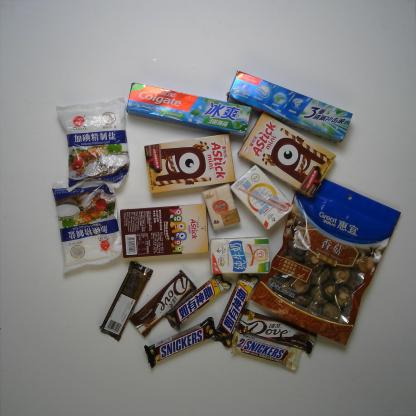Chocolate: (128, 269, 197, 339), (98, 260, 154, 343), (236, 308, 318, 357), (162, 274, 232, 330), (143, 316, 216, 369), (214, 273, 260, 349), (230, 329, 304, 372)
Dessert: (236, 111, 337, 200), (143, 133, 236, 195), (119, 202, 211, 259)
Dried Food: (249, 178, 402, 347)
Milk: (229, 164, 294, 230), (209, 236, 271, 274)
Personal Hygiene: (225, 70, 354, 144), (126, 82, 254, 139)
Seasoner: (55, 96, 131, 193), (51, 180, 123, 274)
Tissue: (201, 182, 241, 231)
